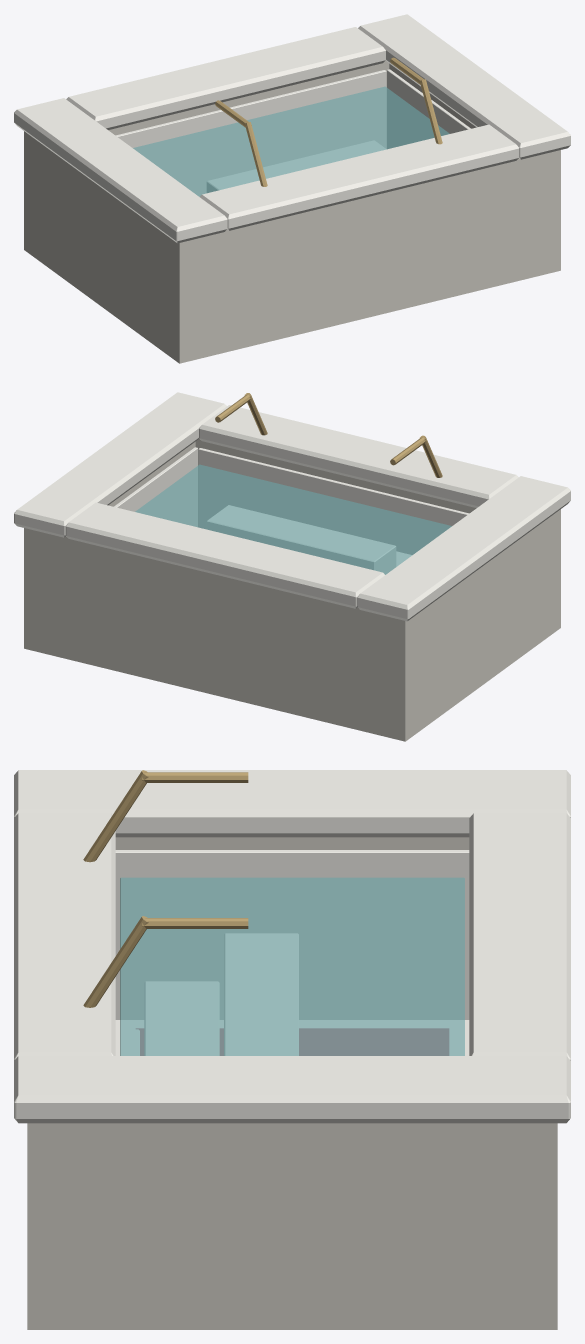
Rendered from roman-bathhouse-and-palaestra-frigidarium-cold-plunge--a2228ceb__37871.glb.
The picture shows the model from 3 angles, top to bottom: view 1: azimuth 30°, elevation 25°; view 2: azimuth 150°, elevation 25°; view 3: azimuth 270°, elevation 25°; orthographic projection. The views are drawn at different scales.
Parts seen in each view (by area): view 1: frigidarium-cold-plunge-basin; view 2: frigidarium-cold-plunge-basin; view 3: frigidarium-cold-plunge-basin.
Boxes of the visible parts, x1=… form: frigidarium-cold-plunge-basin: x1=14, y1=14, x2=570, y2=363; frigidarium-cold-plunge-basin: x1=14, y1=392, x2=570, y2=741; frigidarium-cold-plunge-basin: x1=14, y1=770, x2=570, y2=1329.
Bounding box in the file's own units: 3.52 × 1.63 × 2.52.
